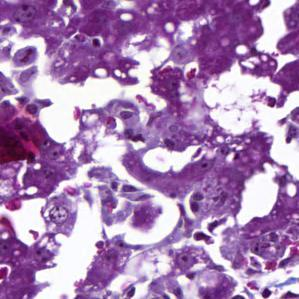ballooning: (201, 61, 283, 141)
